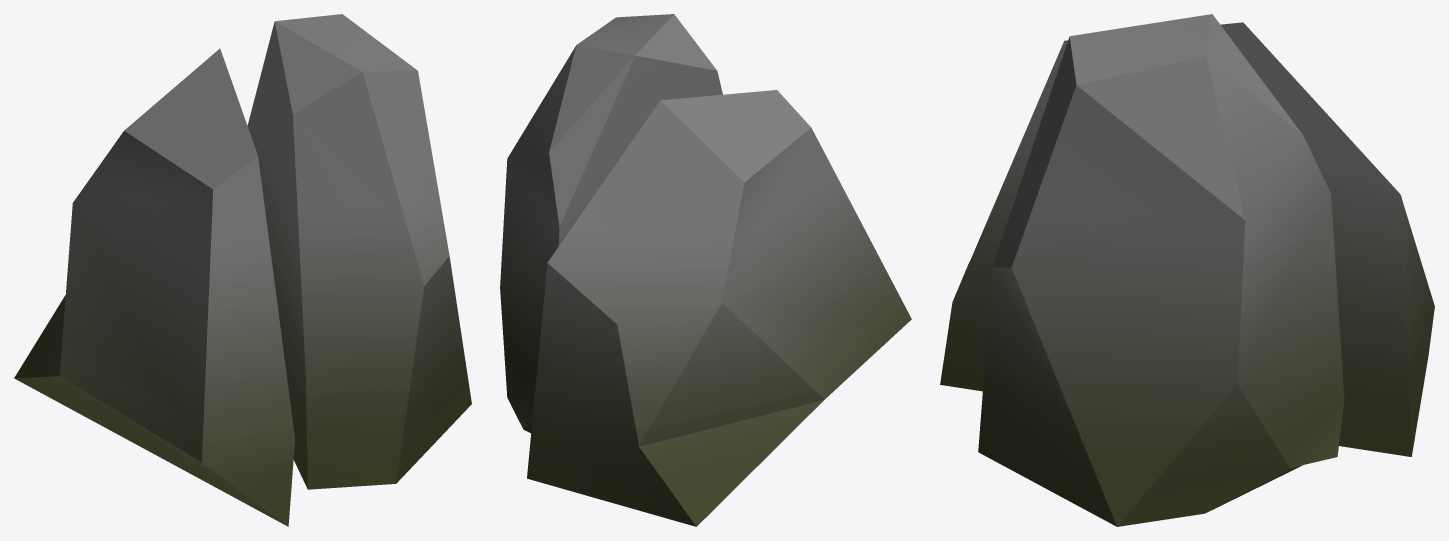
The model's file is ea_environment_stone_moss_01b_pre__2__lev1.glb.
The picture shows the model from 3 angles, left to right: view 1: azimuth 30°, elevation 25°; view 2: azimuth 150°, elevation 25°; view 3: azimuth 270°, elevation 25°; orthographic projection. The views are drawn at different scales.
Parts seen in each view (by area): view 1: ea_environment_stone_moss_01b_pre__2__lev1; view 2: ea_environment_stone_moss_01b_pre__2__lev1; view 3: ea_environment_stone_moss_01b_pre__2__lev1.
Part boxes in pixels (bbox=[...]): ea_environment_stone_moss_01b_pre__2__lev1: bbox=[14, 14, 471, 526]; ea_environment_stone_moss_01b_pre__2__lev1: bbox=[500, 14, 911, 526]; ea_environment_stone_moss_01b_pre__2__lev1: bbox=[940, 14, 1434, 526].
Bounding box in the file's own units: 3.29 × 3.38 × 3.53.
Materials: 1 (1 with a texture image).
